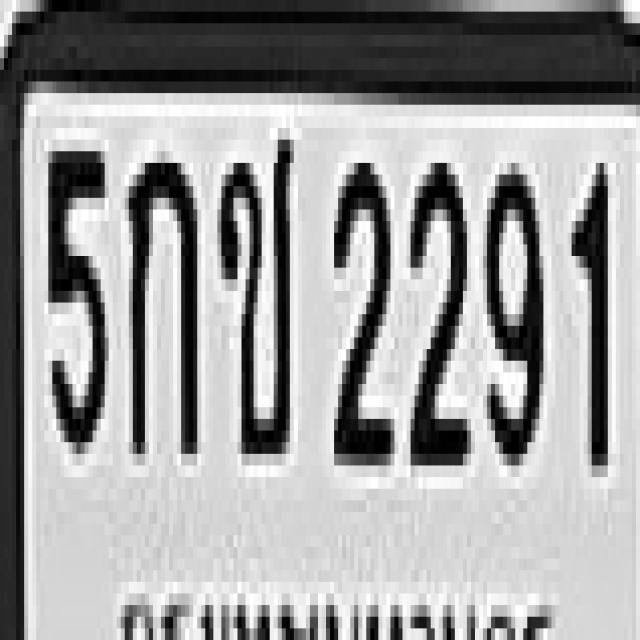1: (568, 151, 604, 454)
10GorGai: (125, 140, 193, 453)
19ChorChang: (217, 122, 290, 448)
2: (406, 151, 463, 454), (330, 151, 386, 454)
5: (44, 140, 101, 442)
9: (483, 151, 539, 454)
